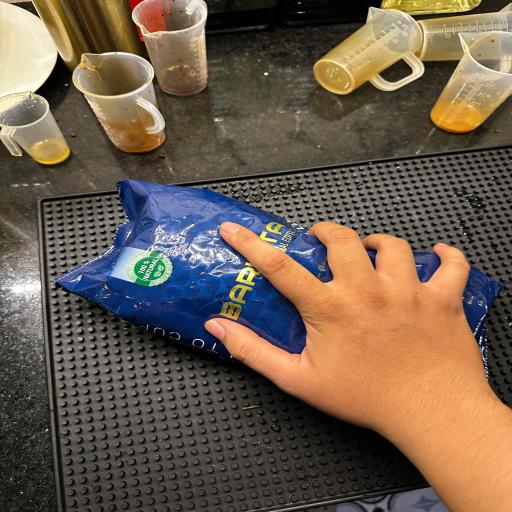cafe_hat: (55, 180, 332, 358), (462, 267, 500, 365)
